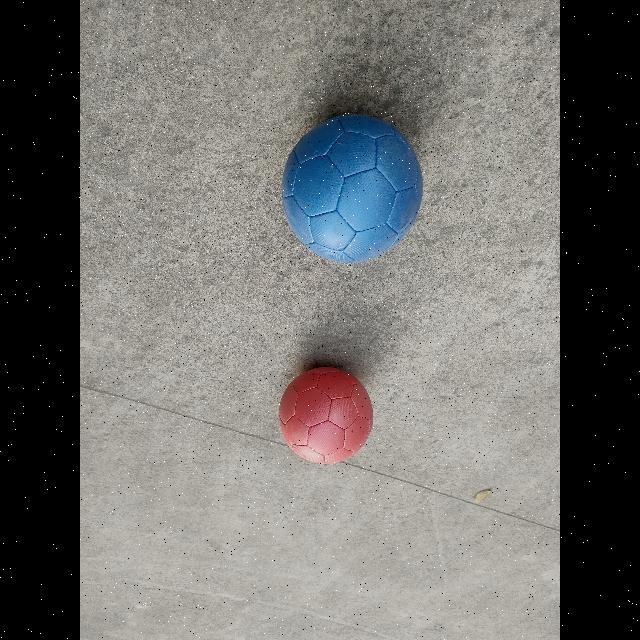B: (281, 113, 423, 263)
R: (279, 366, 373, 464)
